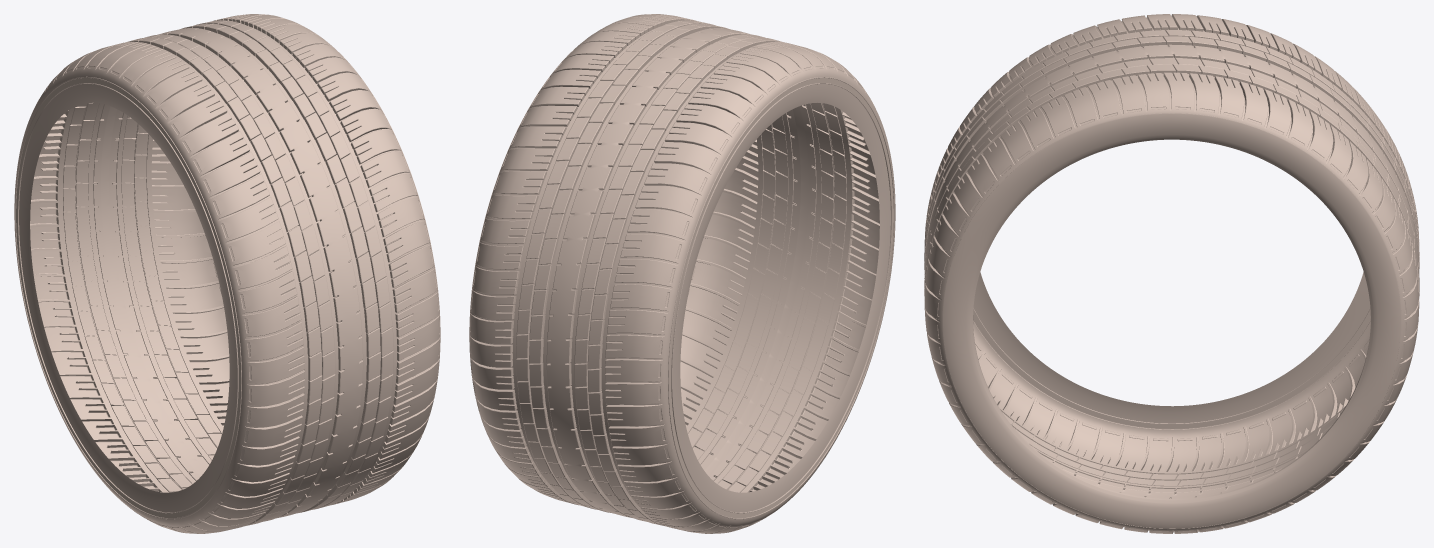
Rendered from rubber_stock.fbx.
3 renders of one model, left to right at view 1: azimuth 30°, elevation 25°; view 2: azimuth 150°, elevation 25°; view 3: azimuth 270°, elevation 25°, orthographic.
Parts seen in each view (by area): view 1: rubber_stock; view 2: rubber_stock; view 3: rubber_stock.
Boxes of the visible parts, box(x1,y1,x2,y2) form: rubber_stock: box(14, 14, 440, 533); rubber_stock: box(469, 14, 895, 533); rubber_stock: box(924, 14, 1419, 533).
Bounding box in the file's own units: 1382 × 3014 × 3014.
